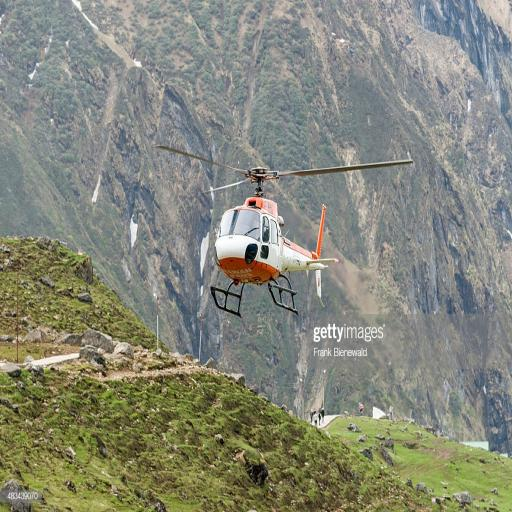helicopter: (160, 148, 408, 323)
